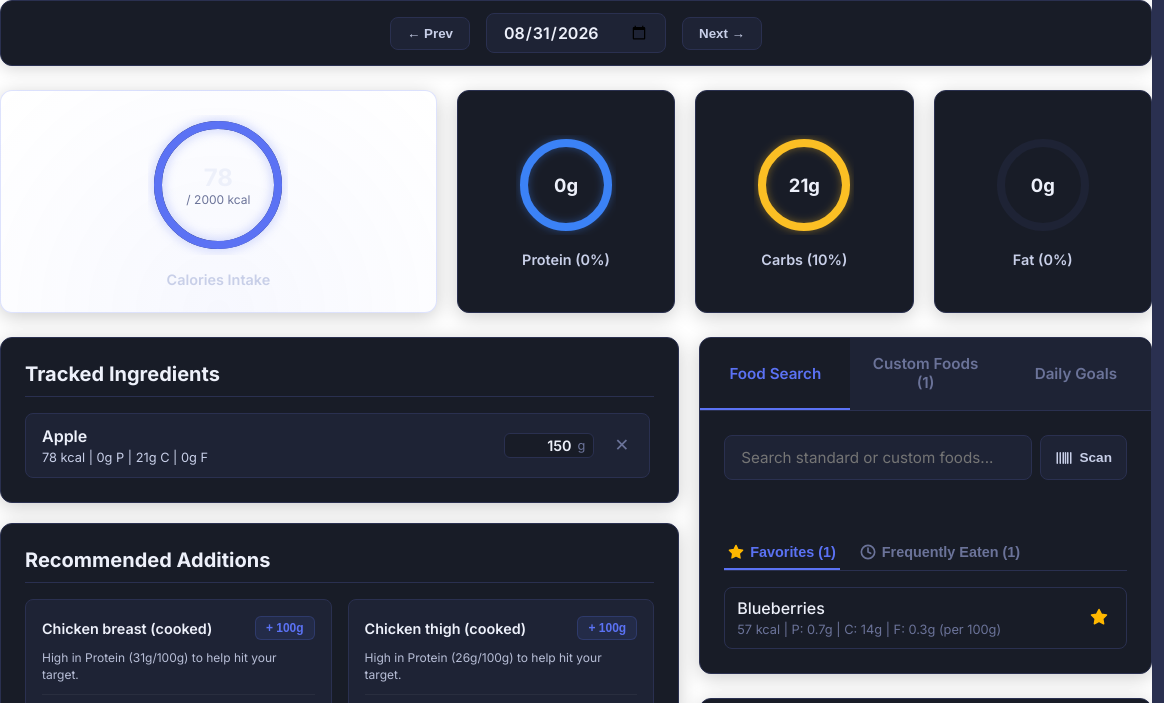
Test case: TrackerPage › supports swapping tabs to Daily Goals and updates goals form fields
This screenshot has width=1164, height=703.
Expected: the text "Apple" is shown, left=42, top=426, right=87, bottom=446
What coordinates should you click on to do the following:
click the button "Daily Goals"
I would click on:
 (1076, 374)
Its box is left=1001, top=338, right=1151, bottom=410.
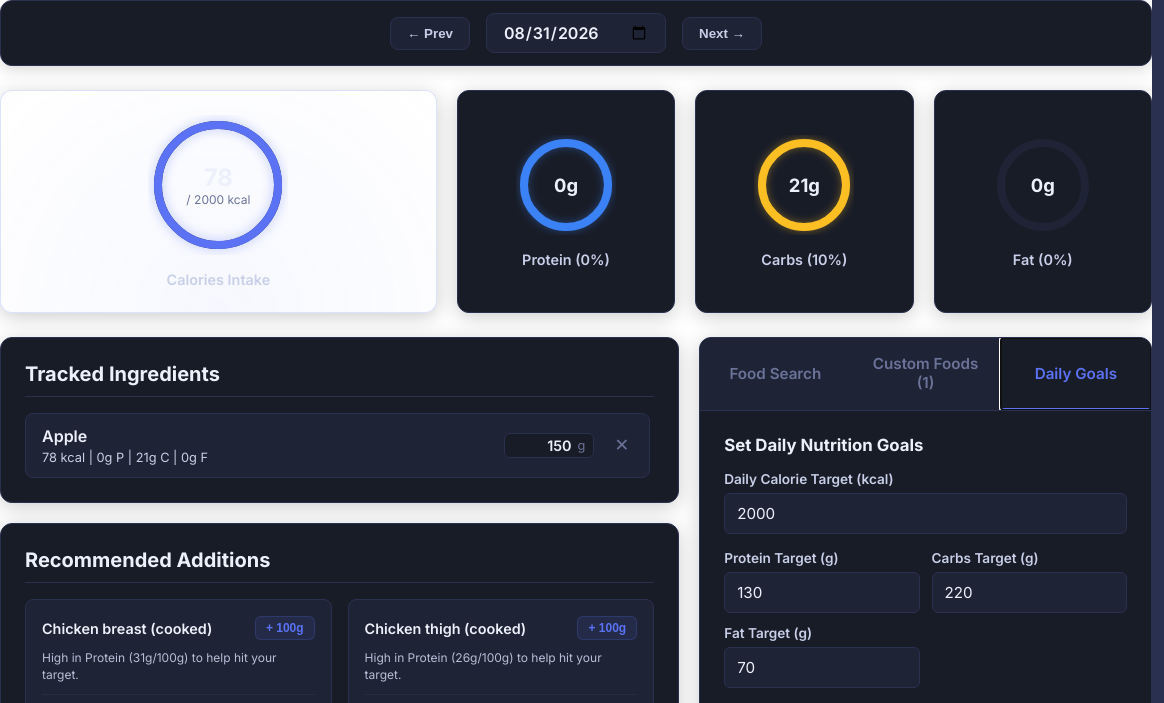
Now the heading "Set Daily Nutrition Goals" is shown, box left=724, top=435, right=924, bottom=455
Now the number field labelled "Daily Calorie Target (kcal)" holds "2000", box left=724, top=493, right=1127, bottom=534
